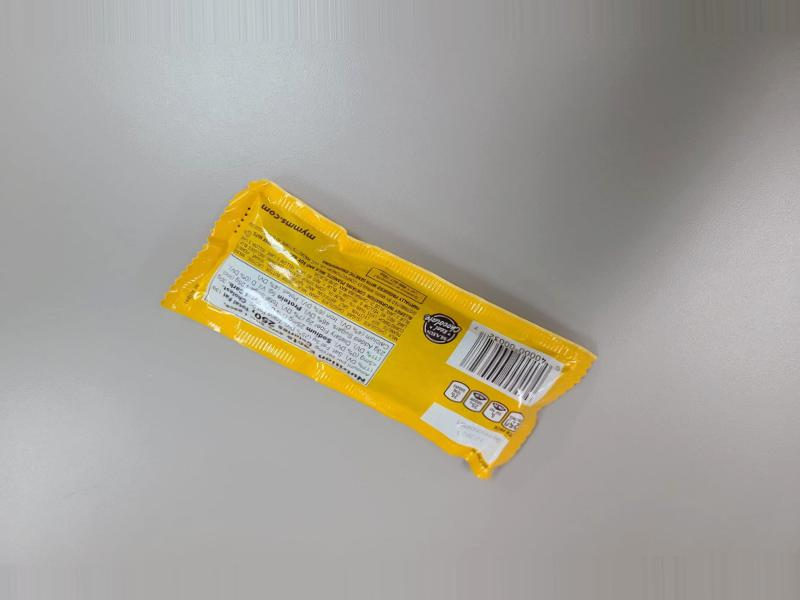m&m: (170, 175, 593, 468)
